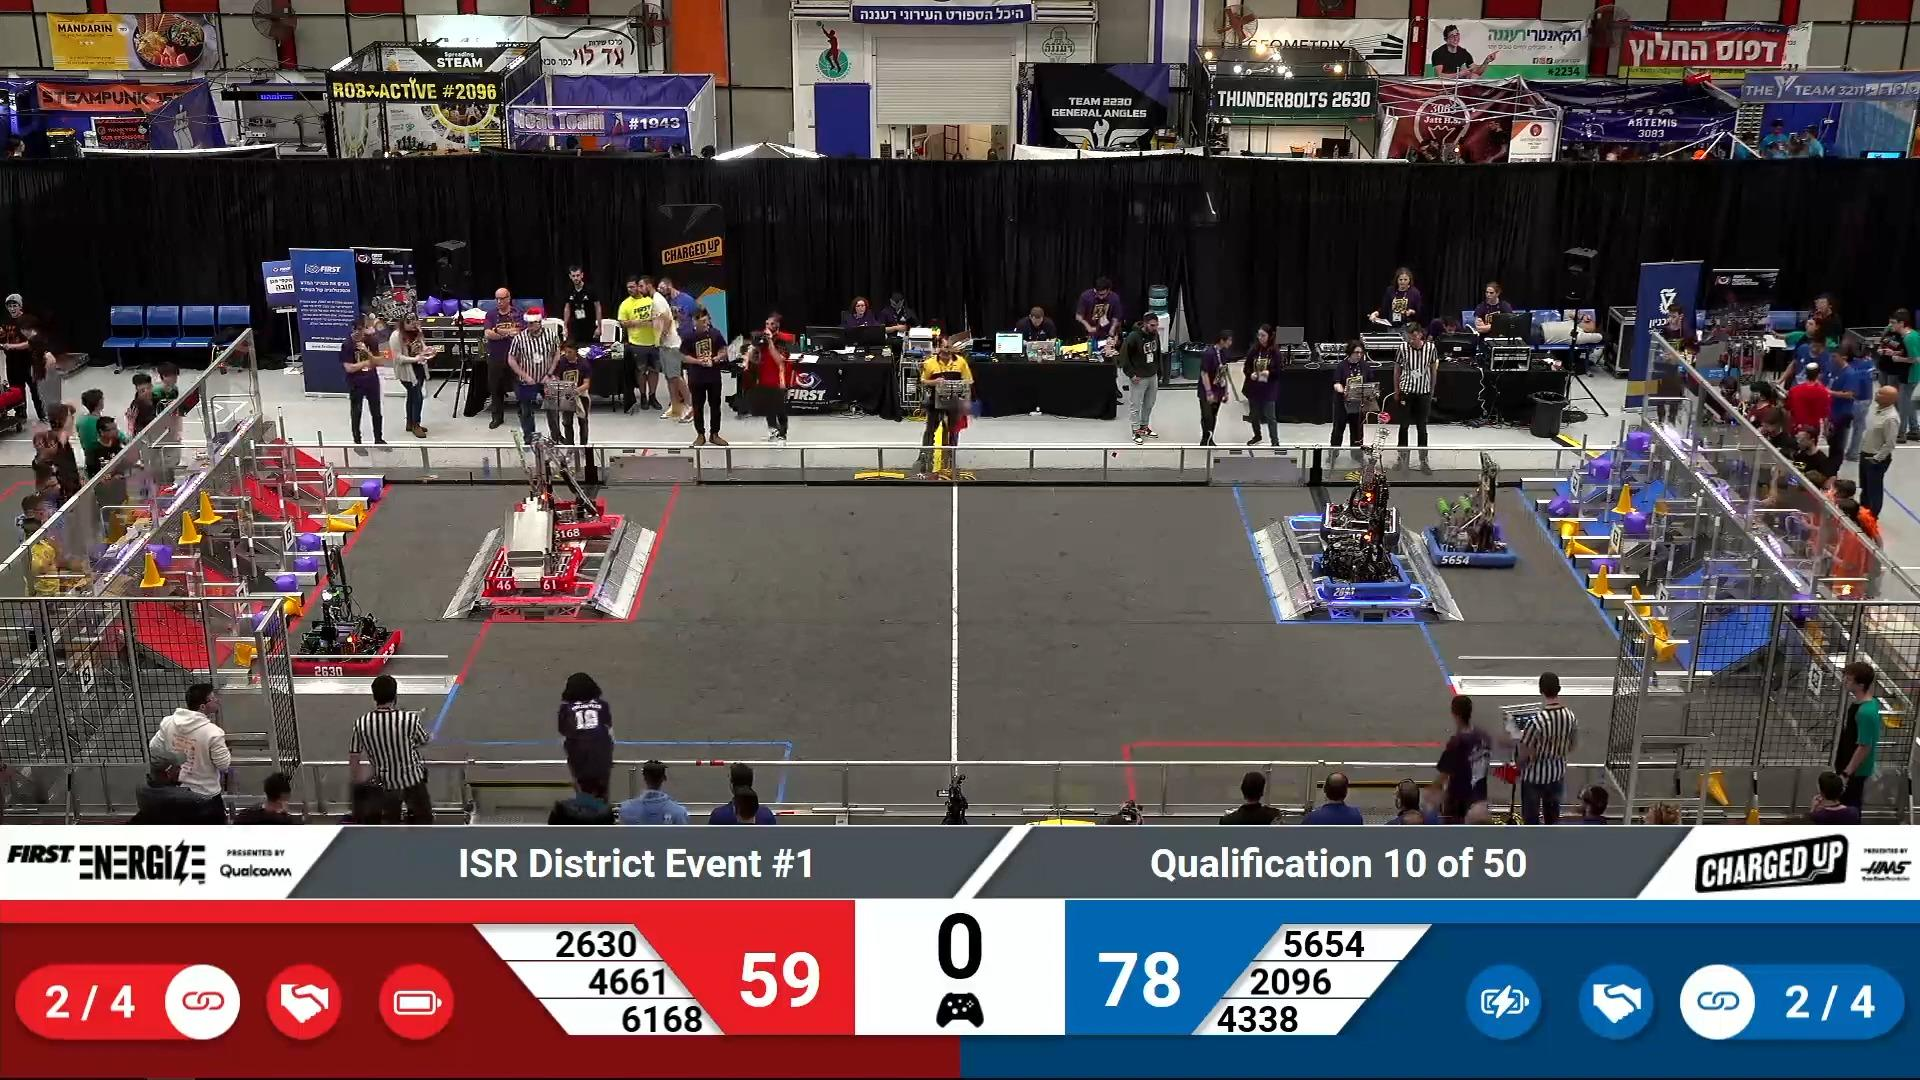robot: (294, 570, 406, 675), (512, 436, 615, 542), (1425, 471, 1522, 576), (1302, 526, 1414, 604), (485, 508, 583, 596), (1317, 463, 1406, 553)
